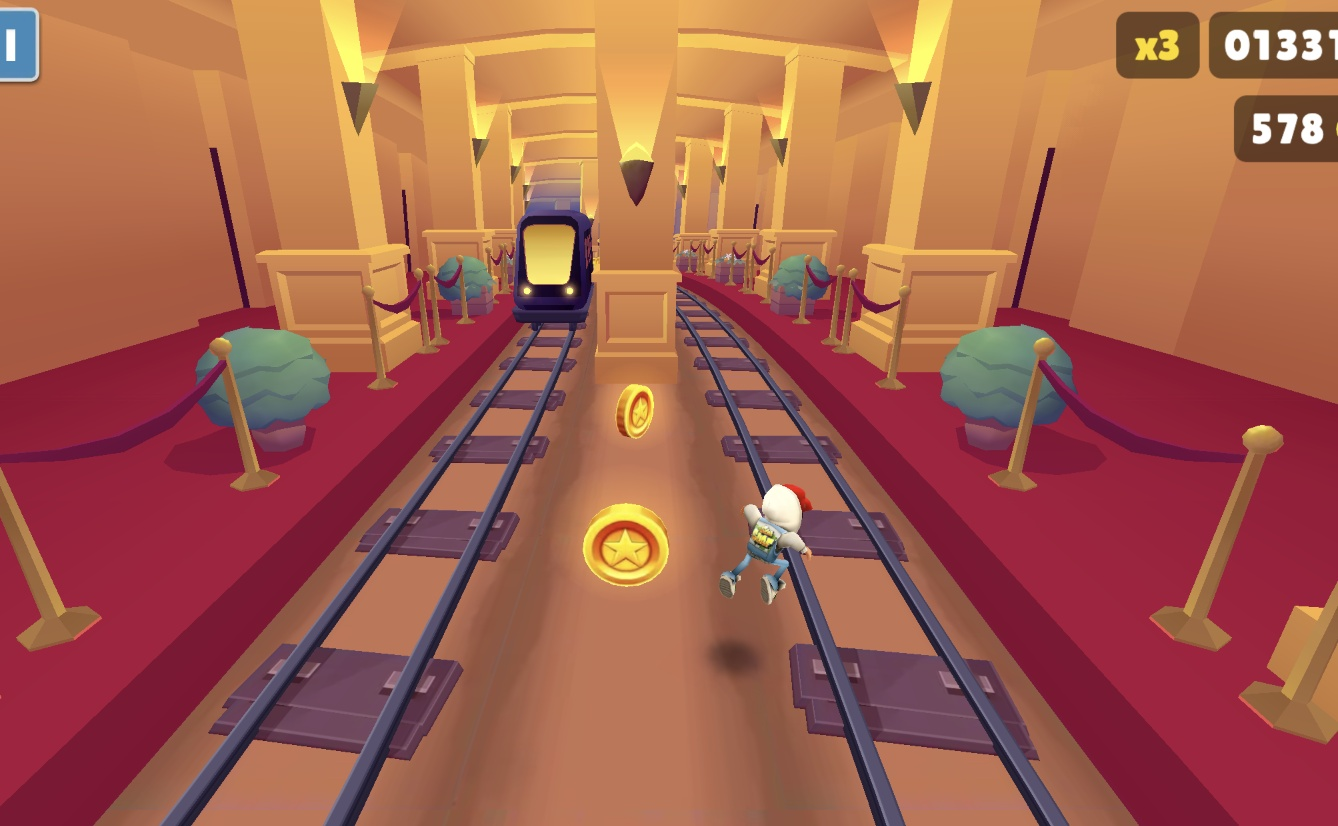pillar: (587, 0, 681, 384)
train: (512, 200, 594, 332)
